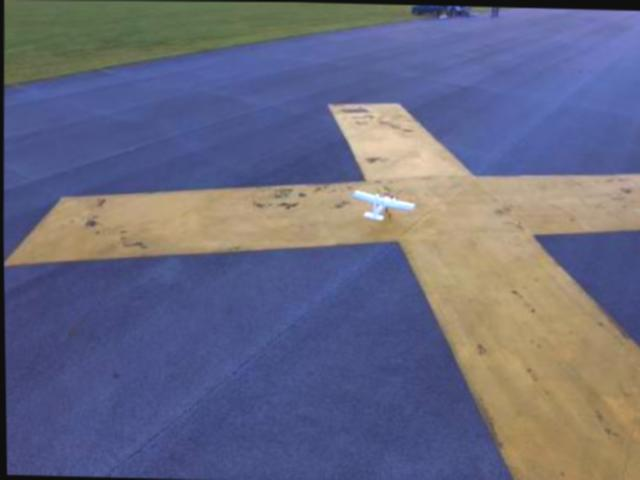uav: (352, 184, 415, 223)
